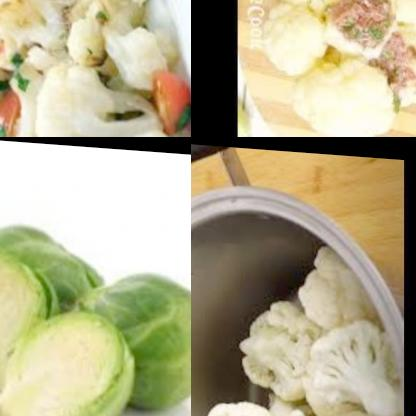brus capusta: (0, 301, 155, 416), (93, 243, 191, 396), (0, 200, 89, 310), (0, 217, 42, 402)
cayliflower: (191, 235, 402, 416), (0, 0, 191, 137), (296, 60, 401, 137), (254, 0, 337, 72), (370, 18, 416, 111), (355, 0, 416, 38), (265, 0, 368, 22)
tomato: (142, 53, 191, 134)
